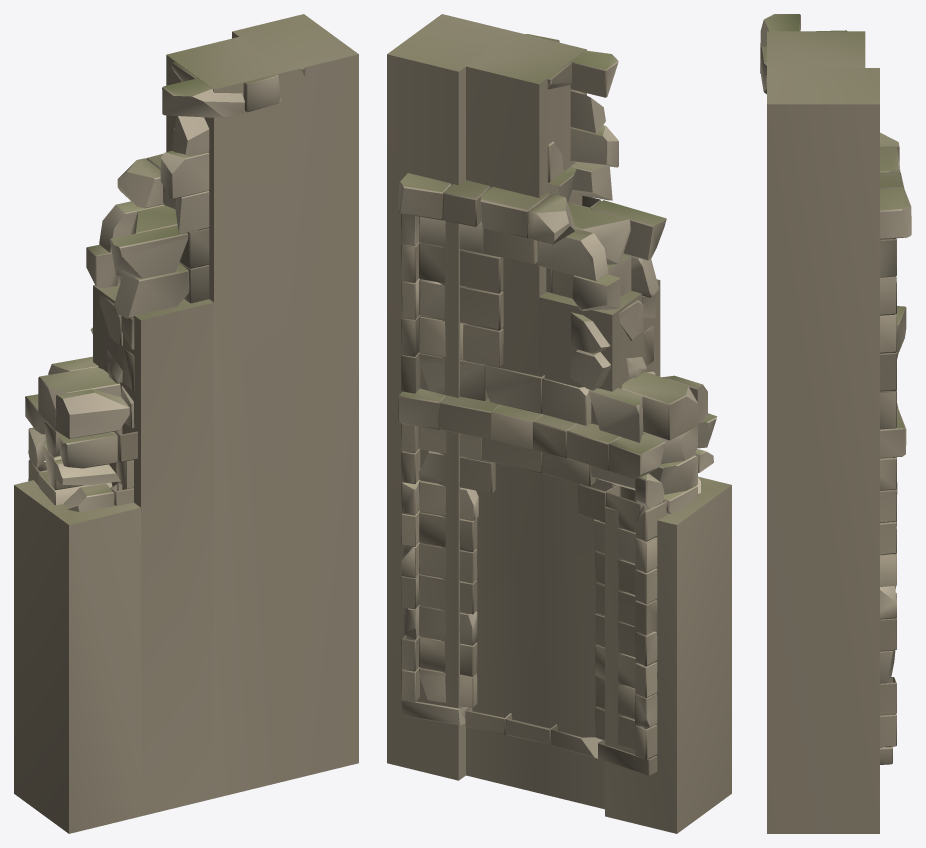
Rendered from dome_drum_bp2.glb.
The picture shows the model from 3 angles, left to right: view 1: azimuth 30°, elevation 25°; view 2: azimuth 150°, elevation 25°; view 3: azimuth 270°, elevation 25°; orthographic projection. The views are drawn at different scales.
Parts seen in each view (by area): view 1: dome_drum_bp2_far, dome_drum_bp2; view 2: dome_drum_bp2_far, dome_drum_bp2; view 3: dome_drum_bp2_far, dome_drum_bp2.
Part boxes in pixels (left/top/right/bottom): dome_drum_bp2_far: left=14, top=14, right=358, bottom=833; dome_drum_bp2: left=25, top=61, right=305, bottom=511; dome_drum_bp2_far: left=387, top=14, right=731, bottom=833; dome_drum_bp2: left=398, top=34, right=717, bottom=775; dome_drum_bp2_far: left=767, top=31, right=879, bottom=833; dome_drum_bp2: left=760, top=14, right=911, bottom=764.
Bounding box in the file's own units: 21.4 × 50 × 9.41.
